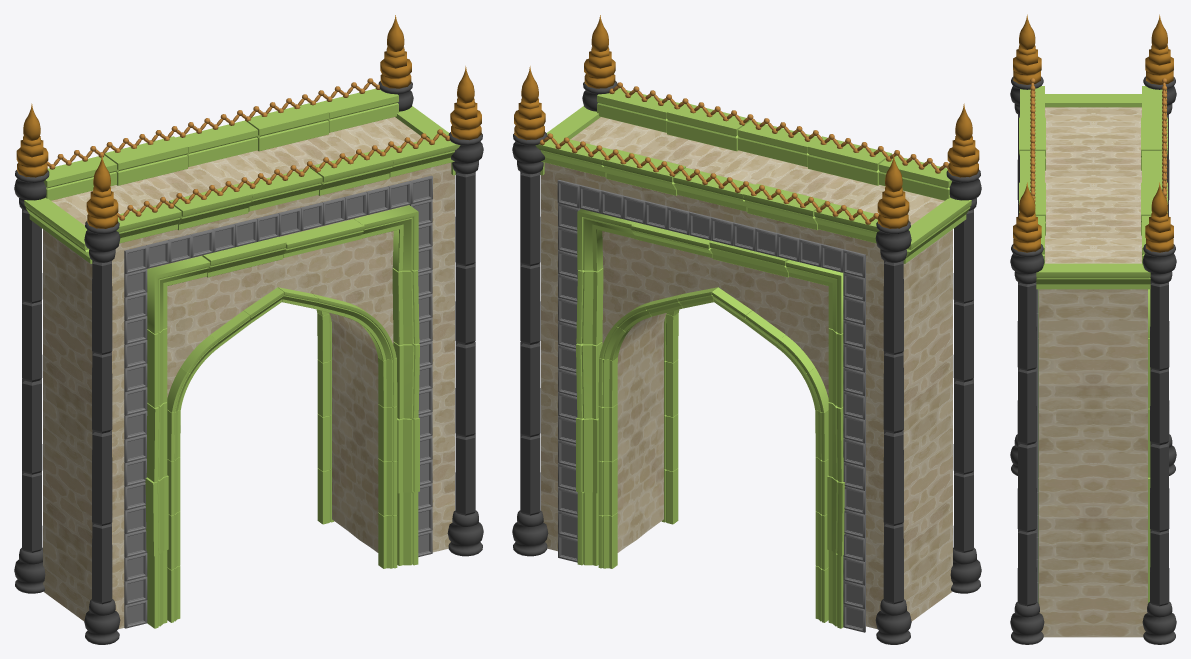
The model's file is SM_wall_large_gate_01.fbx.
3 views of the same model, side by side, from view 1: azimuth 30°, elevation 25°; view 2: azimuth 150°, elevation 25°; view 3: azimuth 270°, elevation 25° (orthographic). The views are drawn at different scales.
Parts seen in each view (by area): view 1: Object33198; view 2: Object33198; view 3: Object33198.
Part boxes in pixels (x1=…): Object33198: x1=14, y1=15, x2=483, y2=644; Object33198: x1=512, y1=15, x2=981, y2=644; Object33198: x1=1010, y1=14, x2=1176, y2=644.
Bounding box in the file's own units: 679 × 798 × 263.
